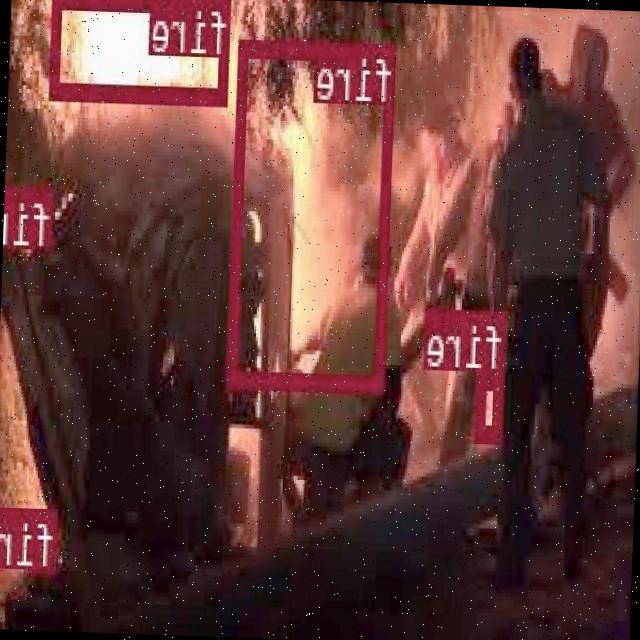fire: (230, 36, 396, 390), (53, 0, 233, 99), (477, 369, 505, 441), (20, 185, 54, 242), (31, 506, 59, 570)
